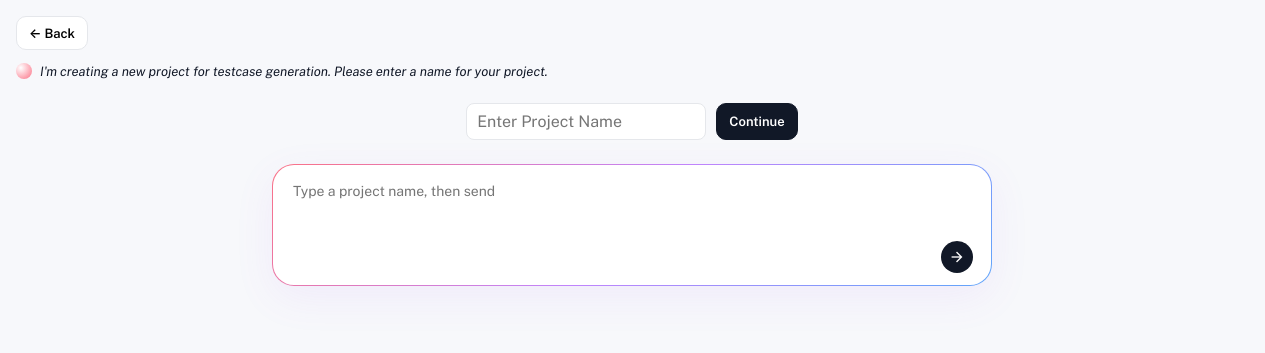
NamePage › shows an error and does not patch when the name is empty
Click the button "Continue".
click(757, 122)  # box left=716, top=103, right=798, bottom=140
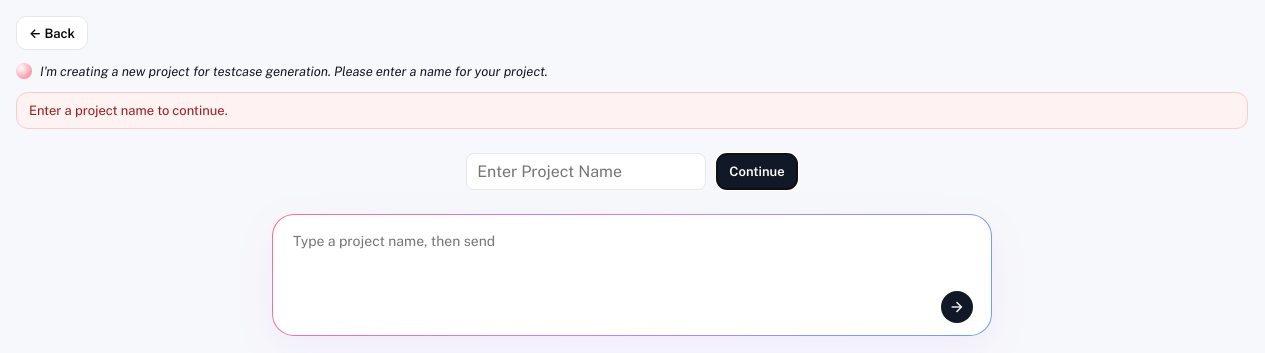
Now the text "Enter a project name to continue." is shown, box left=16, top=92, right=1248, bottom=129
